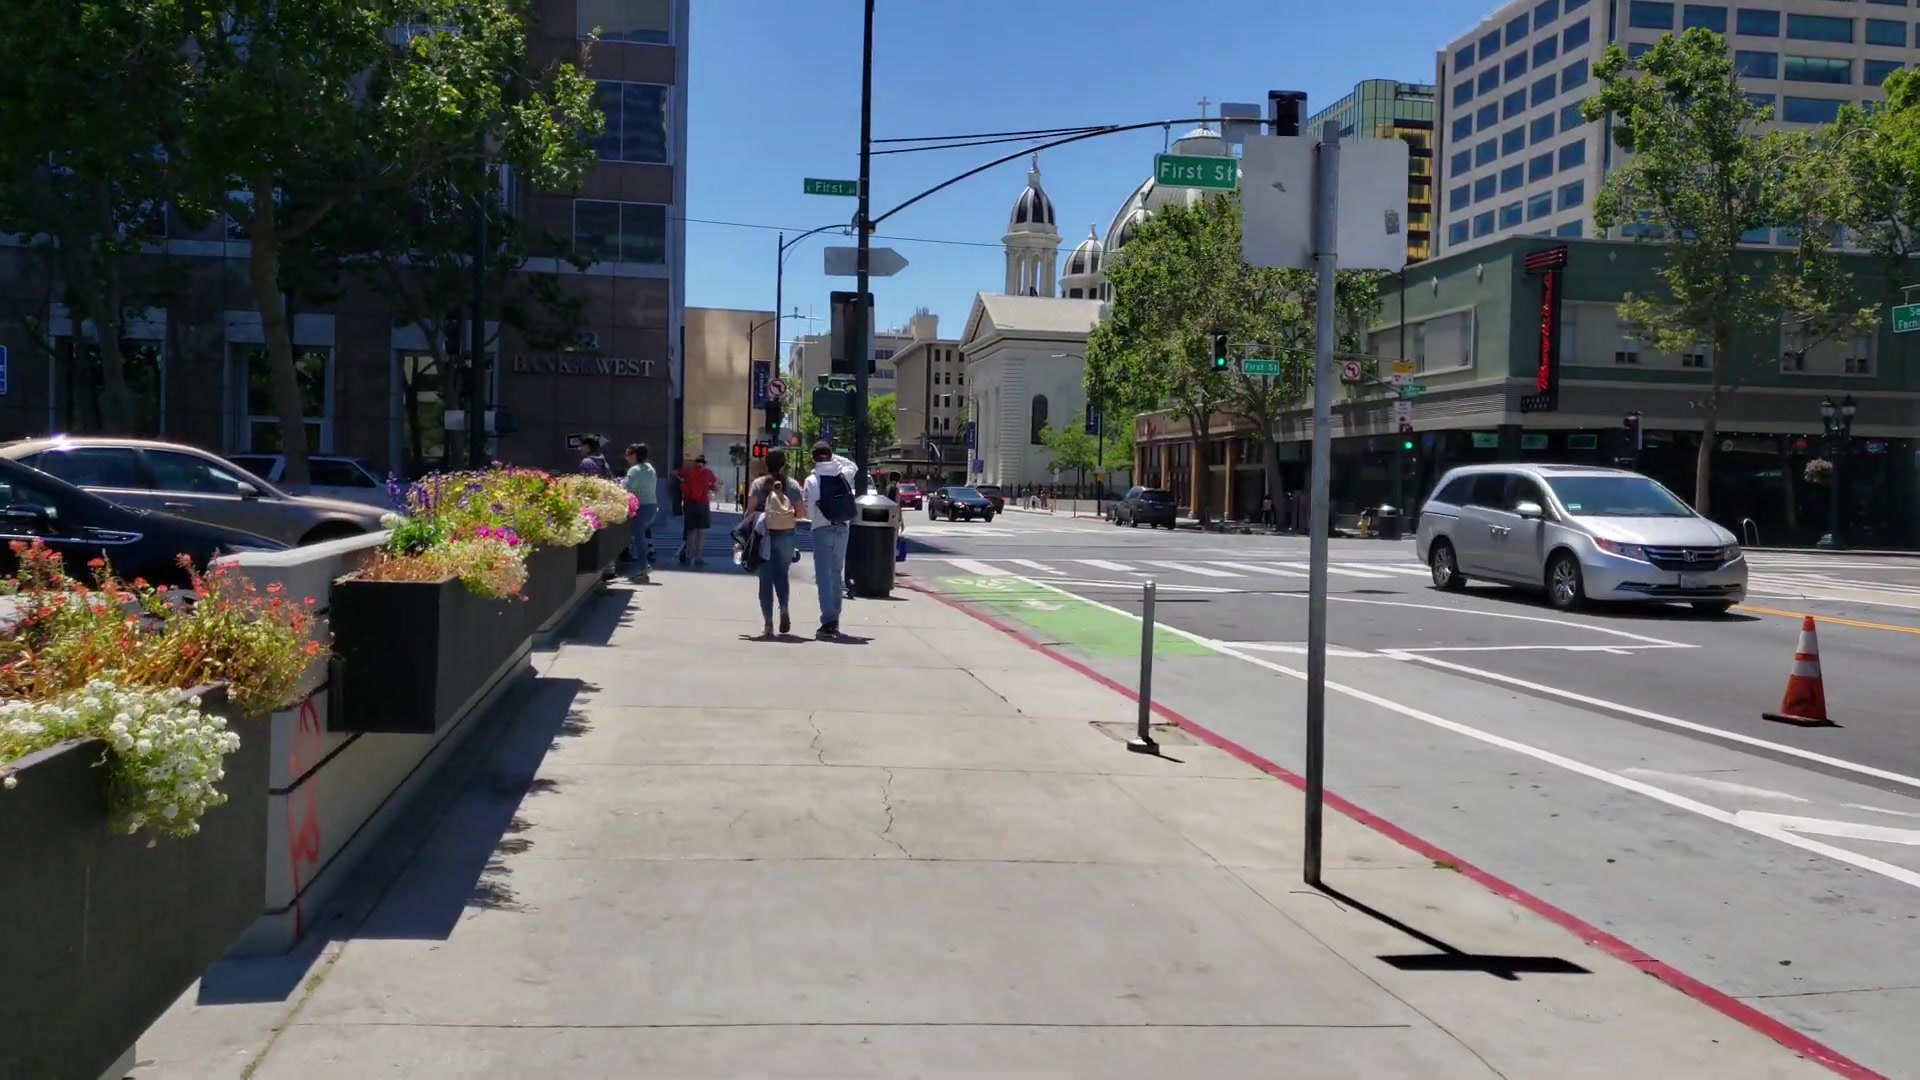vehicle: (1418, 462, 1753, 609), (928, 491, 993, 520)
